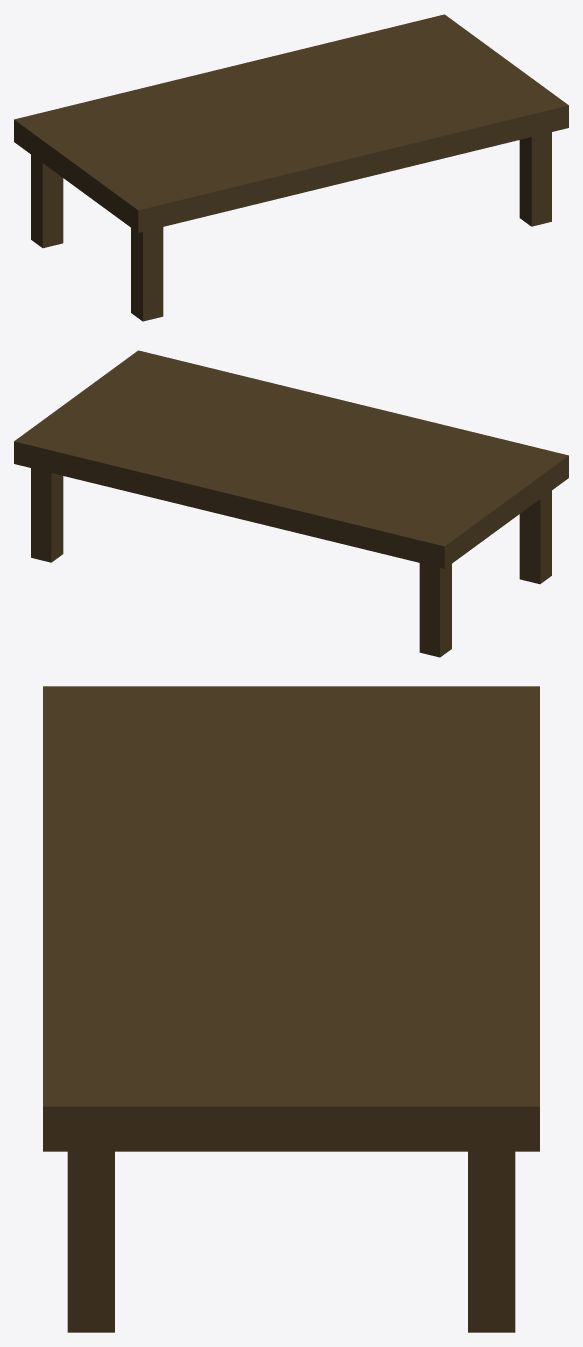
Rendered from CoffeeTable.fbx.
3 views of the same model, one above another, from view 1: azimuth 30°, elevation 25°; view 2: azimuth 150°, elevation 25°; view 3: azimuth 270°, elevation 25° (orthographic). The views are drawn at different scales.
Visible parts, largest first — view 1: Cube; view 2: Cube; view 3: Cube.
Part boxes in pixels (box(x1,y1,x2,y2)): Cube: box(14, 14, 568, 321); Cube: box(14, 350, 568, 657); Cube: box(43, 686, 539, 1332).
Bounding box in the file's own units: 800 × 210 × 400.
